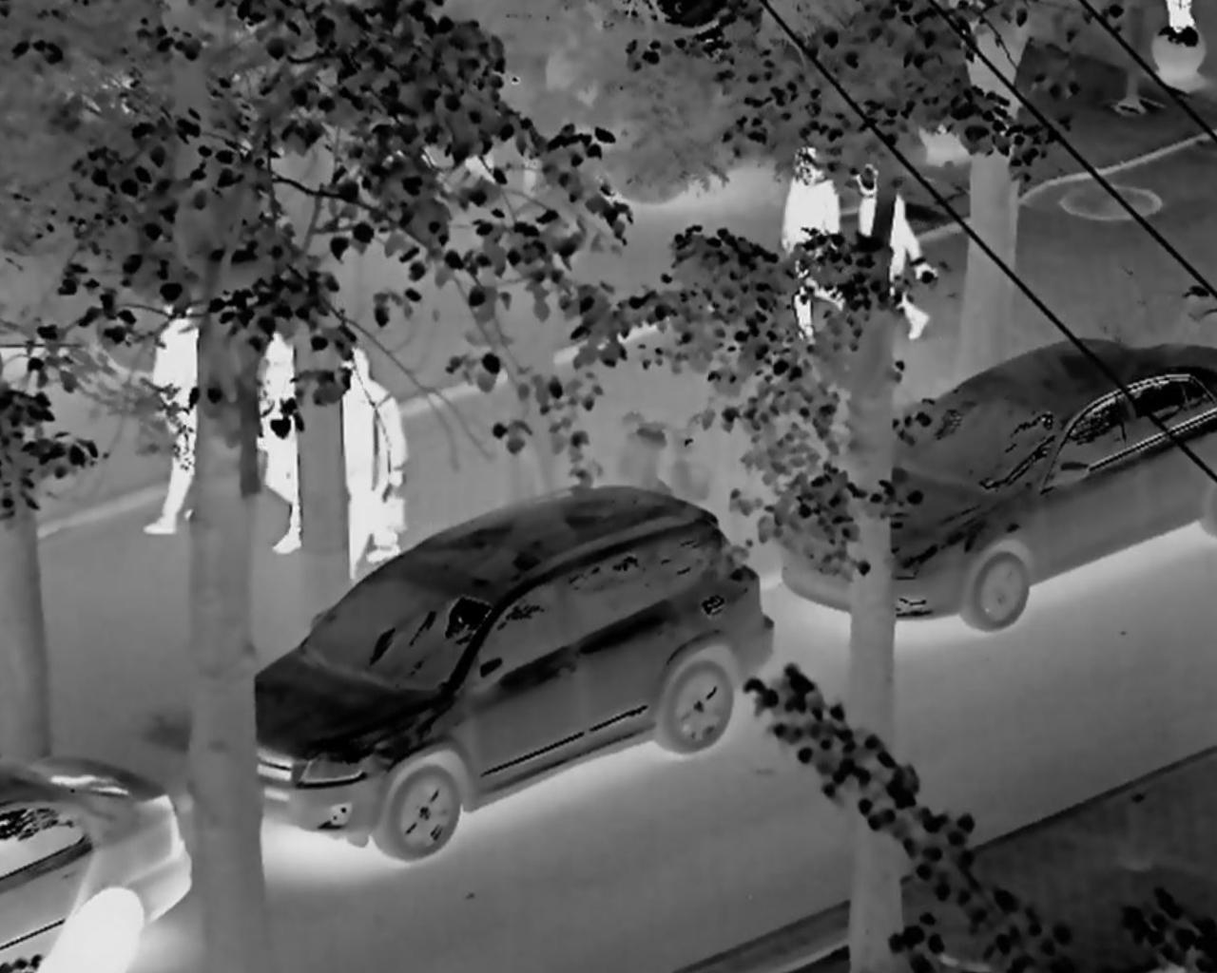person: (132, 281, 216, 531), (230, 322, 319, 553), (852, 153, 941, 378), (773, 111, 853, 359), (333, 341, 406, 582)
